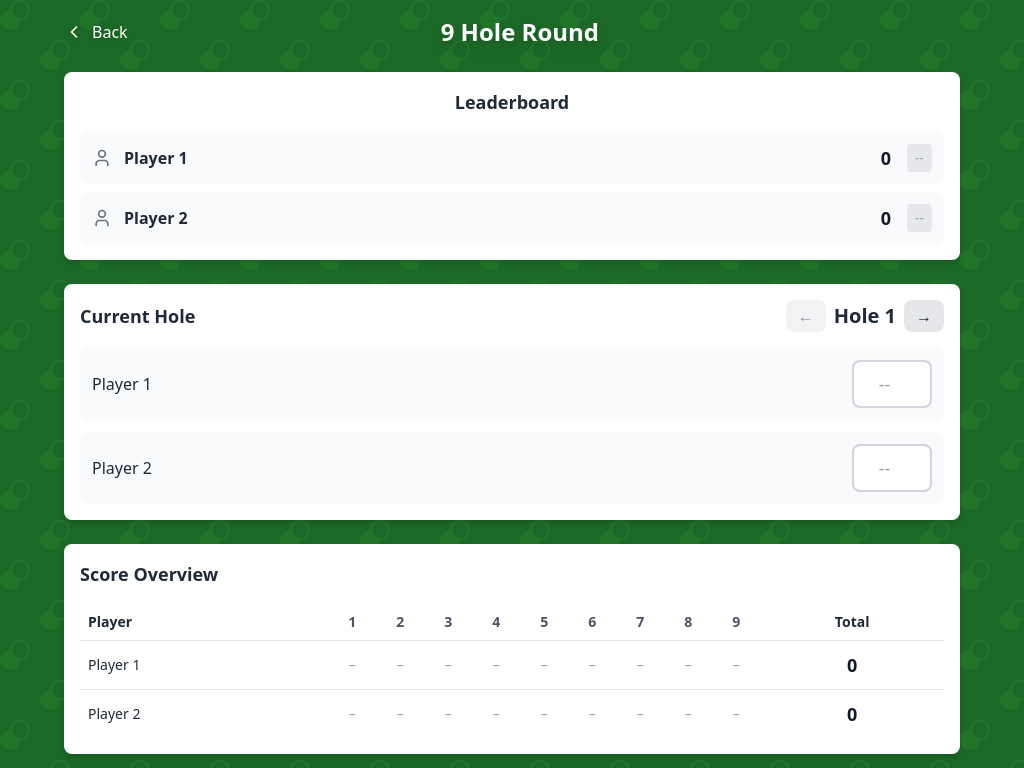
Scenario: ScoreCard Multiplayer Component › User Interactions › resets all players scores when reset button clicked
Note: Add some scores
Type "4" into the 1st number field with placeholder "--" at (892, 384), box left=852, top=360, right=932, bottom=408
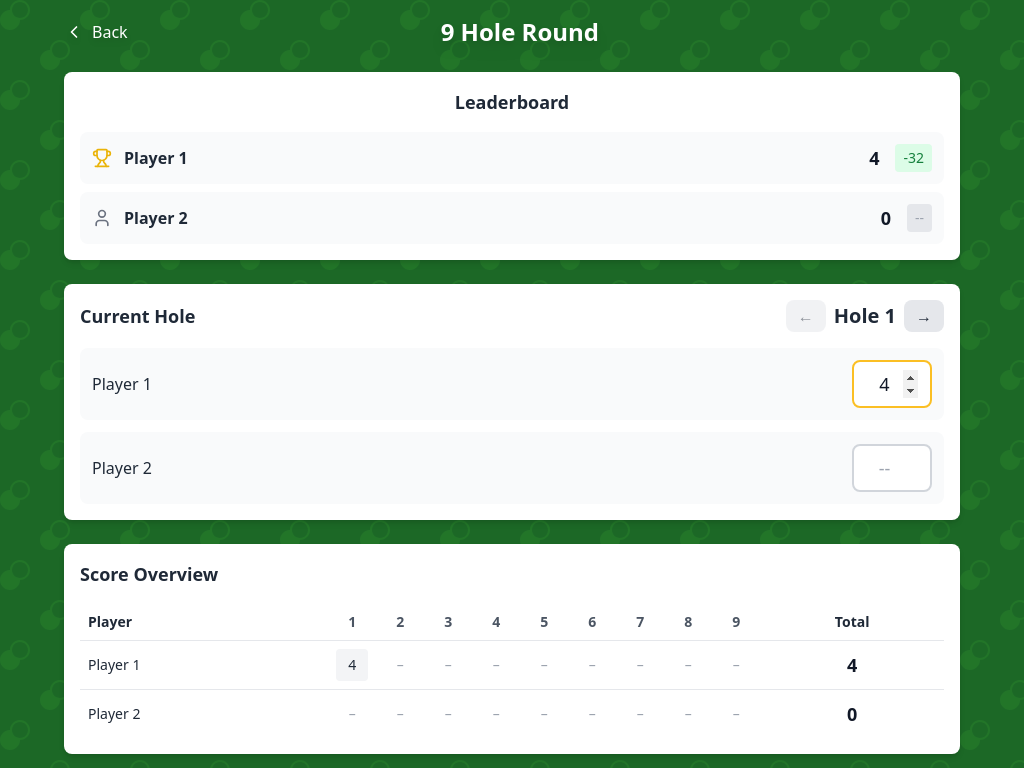
Type "5" into the number field with placeholder "--" at (892, 468), box left=852, top=444, right=932, bottom=492
(page scrolled)
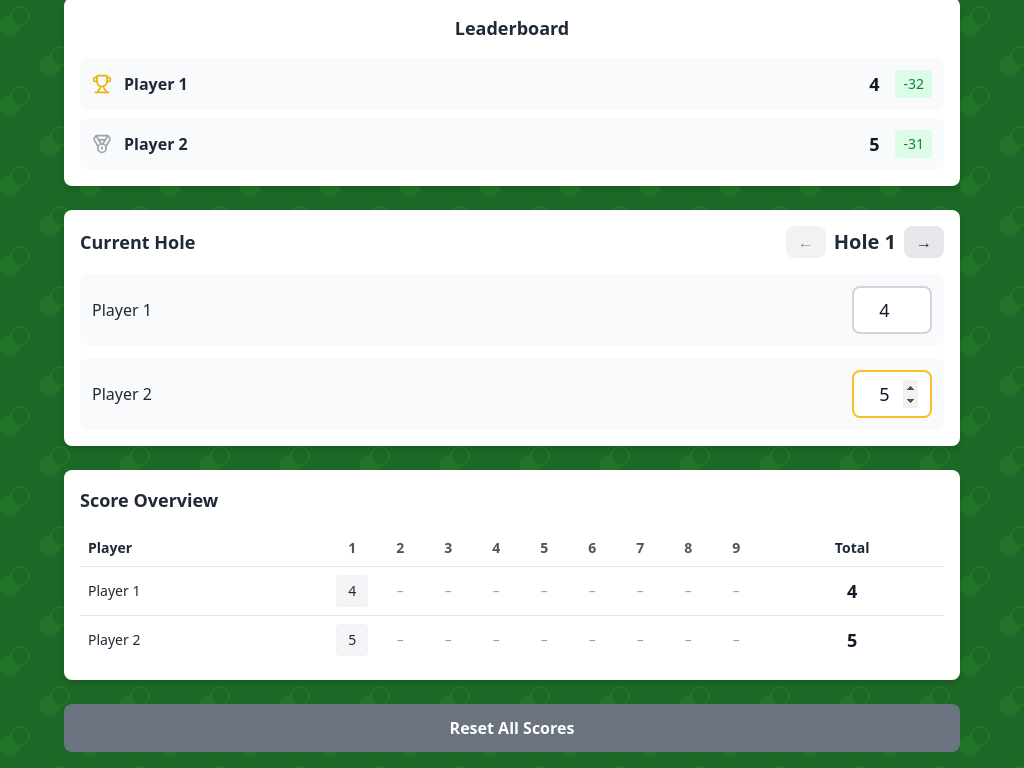
Note: Reset scores
Click the button "Reset All Scores" at (512, 728), box left=64, top=704, right=960, bottom=752
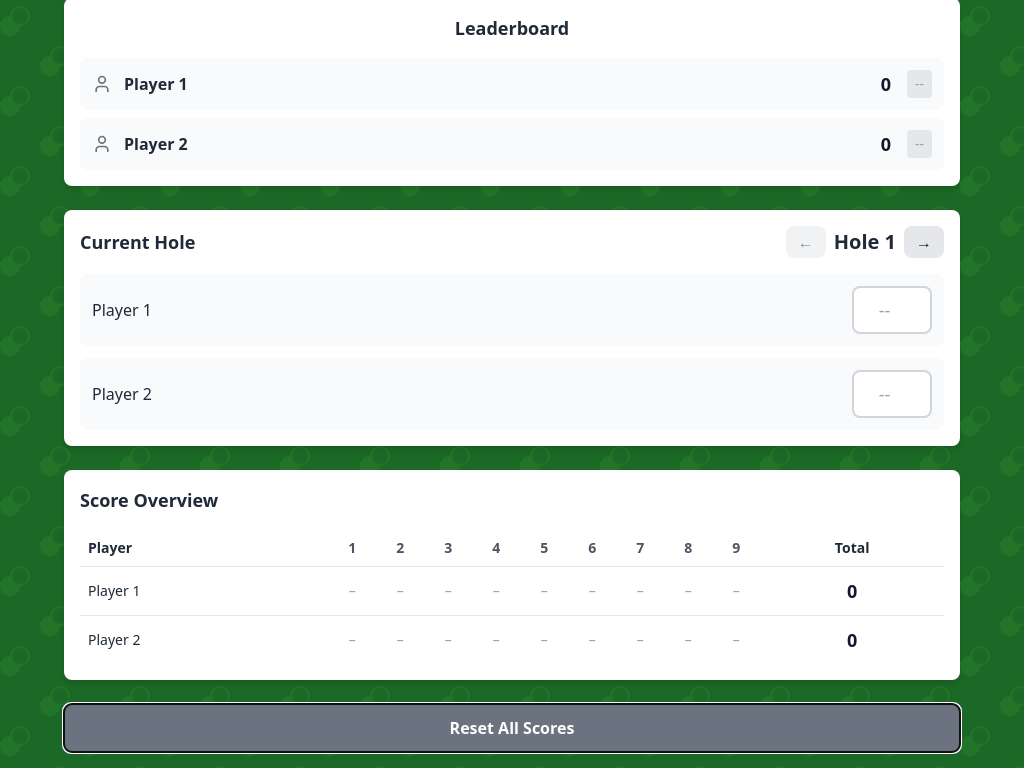
Now the 1st number field with placeholder "--" is not empty, box left=852, top=286, right=932, bottom=334
Now the 2nd number field with placeholder "--" is not empty, box left=852, top=370, right=932, bottom=418
